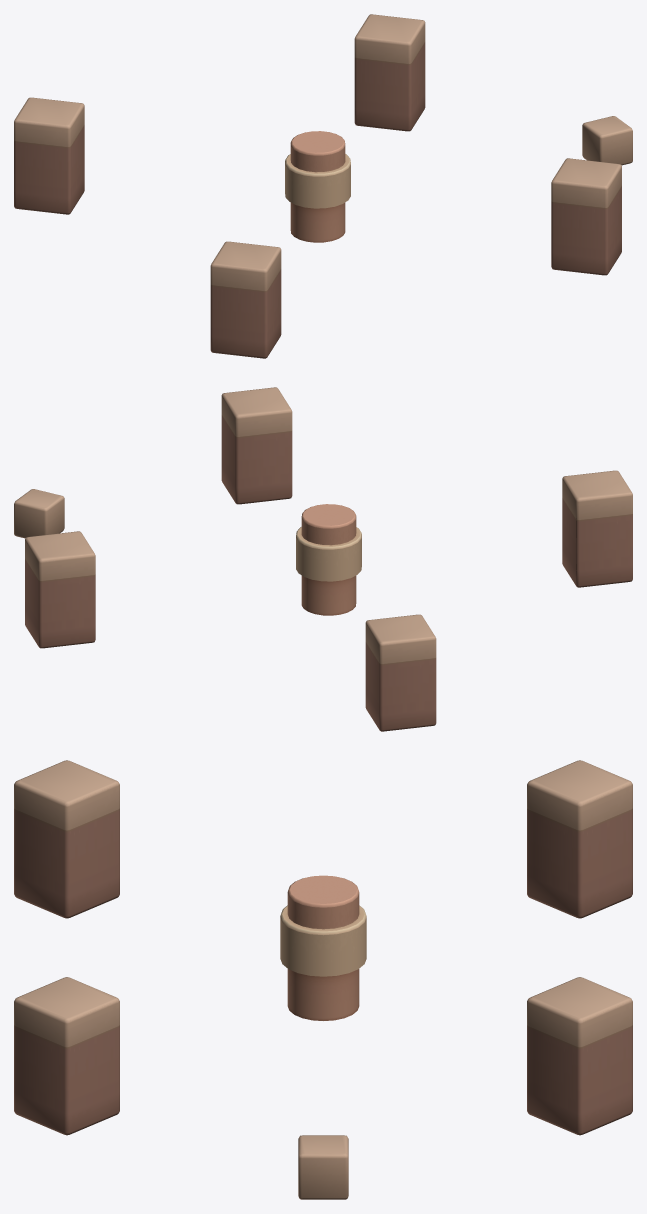
File: Props.fbx
3 renders of one model, top to bottom at view 1: azimuth 30°, elevation 25°; view 2: azimuth 150°, elevation 25°; view 3: azimuth 270°, elevation 25°, orthographic. The views are drawn at different scales.
Visible parts, largest first — view 1: Box03 (1), Box03 (2), Box03, Box03 (3), Cylinder-2, Box1-6; view 2: Box03, Box03 (3), Box03 (1), Box03 (2), Cylinder-2, Box1-6; view 3: Box03 (2), Box03 (3), Box03, Box03 (1), Cylinder-2, Box1-6.
Part boxes in pixels (box(x1,y1,x2,y2)): Box03 (1): box(354, 14, 425, 131); Box03 (2): box(210, 241, 281, 358); Box03: box(551, 158, 621, 275); Box03 (3): box(14, 97, 84, 214); Cylinder-2: box(285, 131, 350, 242); Box1-6: box(582, 116, 632, 165); Box03: box(221, 387, 292, 504); Box03 (3): box(365, 614, 436, 731); Box03 (1): box(25, 531, 95, 648); Box03 (2): box(562, 470, 632, 587); Cylinder-2: box(296, 504, 361, 615); Box1-6: box(14, 489, 64, 538); Box03 (2): box(14, 760, 119, 918); Box03 (3): box(527, 760, 632, 918); Box03: box(14, 977, 119, 1135); Box03 (1): box(527, 977, 632, 1135); Cylinder-2: box(280, 875, 366, 1020); Box1-6: box(298, 1135, 348, 1199).
Size of the model in its own units: 30.04 by 5.01 by 24.14.
2 materials, 2 textured.
